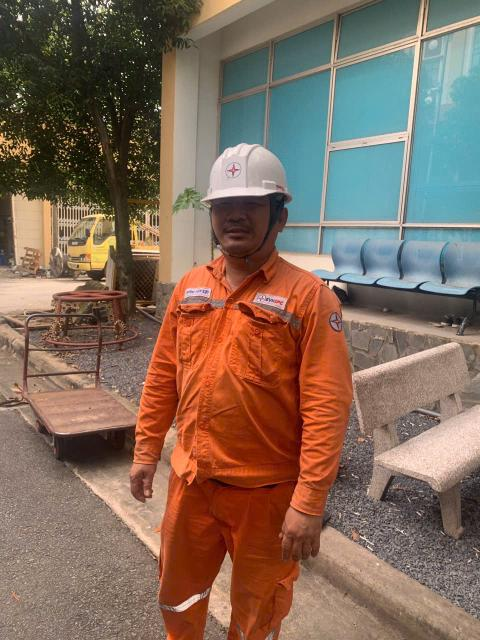helmet: (168, 124, 302, 212)
